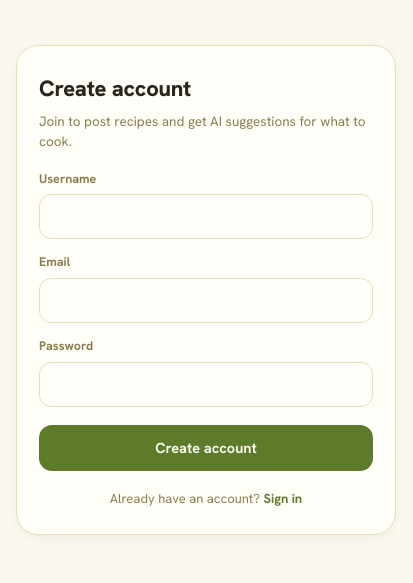
Test case: RegisterPage › shows the conflict message on a 409 (username/email taken)
Type "takenuser" into the field labelled "Username".
click(206, 217); type("takenuser")  # box [39,194,373,239]
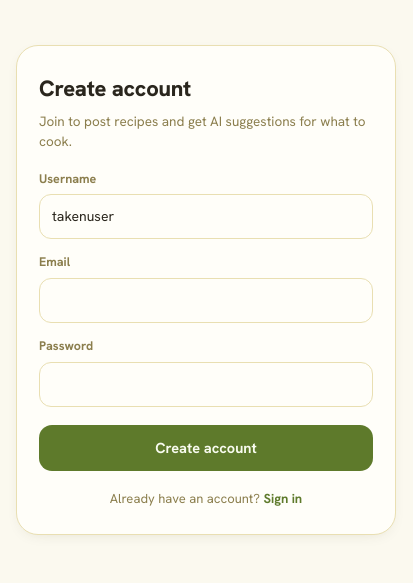
Type "taken@example.com" into the field labelled "Email".
click(206, 300); type("taken@example.com")  # box [39,278,373,323]
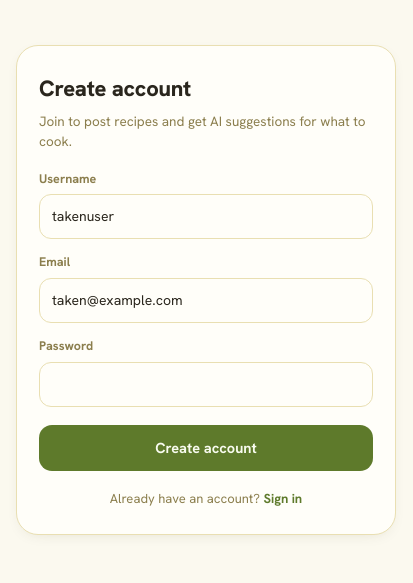
Type "longenough" into the password field labelled "Password".
click(206, 384); type("longenough")  # box [39,362,373,407]
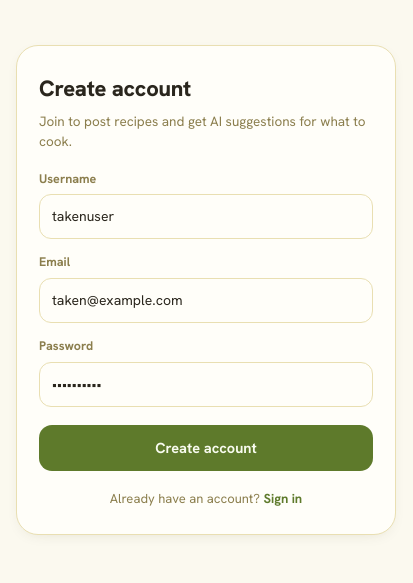
Click the button "Create account".
click(206, 448)  # box [39,425,373,471]
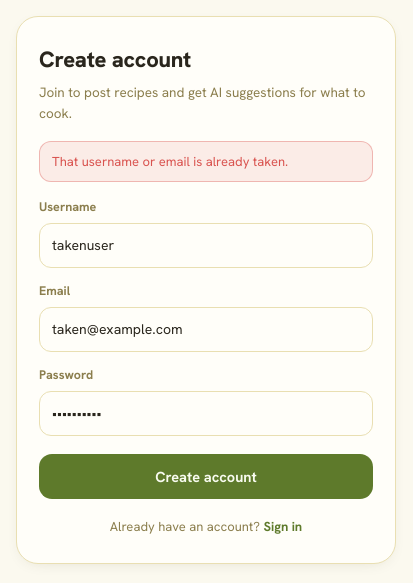
Check: the text "That username or email is already taken." is shown, box [39,141,373,182]
